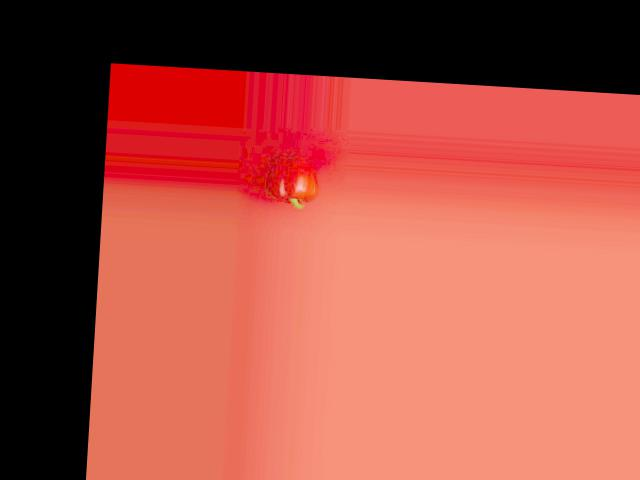bell_pepper: (262, 148, 318, 211)
